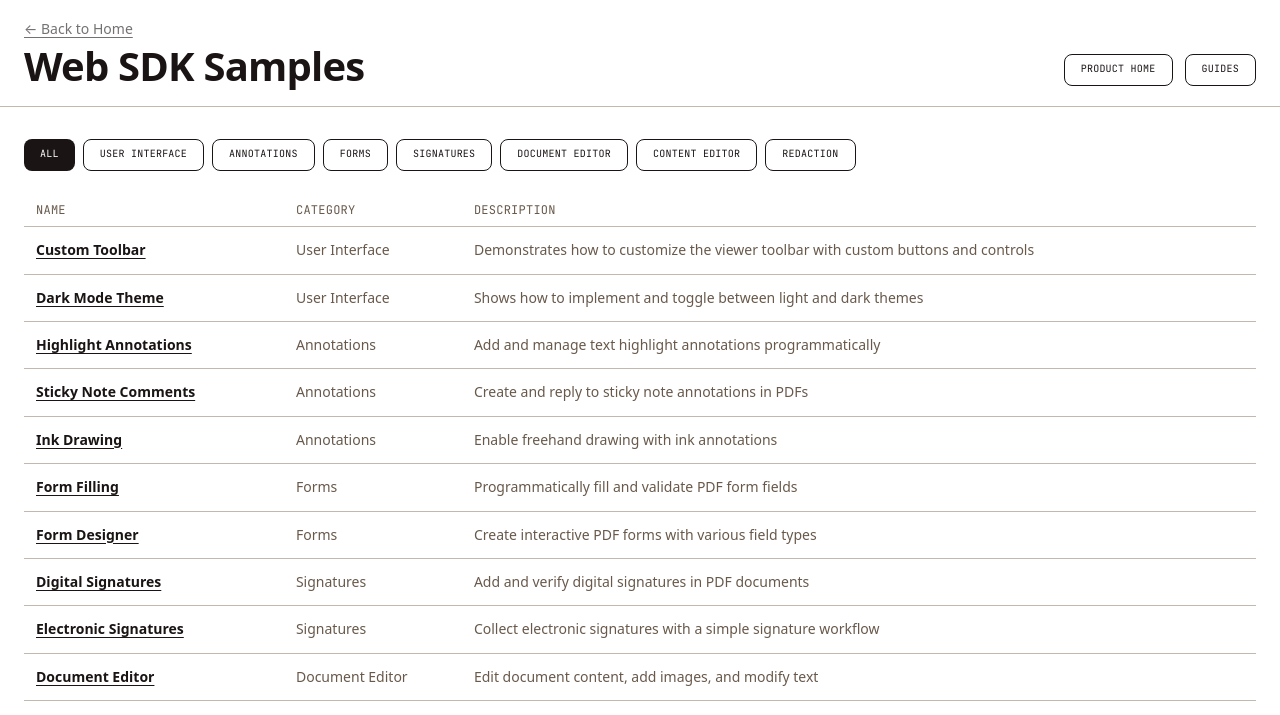
Test case: Web SDK Samples Page Filtering › should filter samples by Annotations category
Click the button "Annotations". click: (263, 155)
box: 212,139 -> 315,171
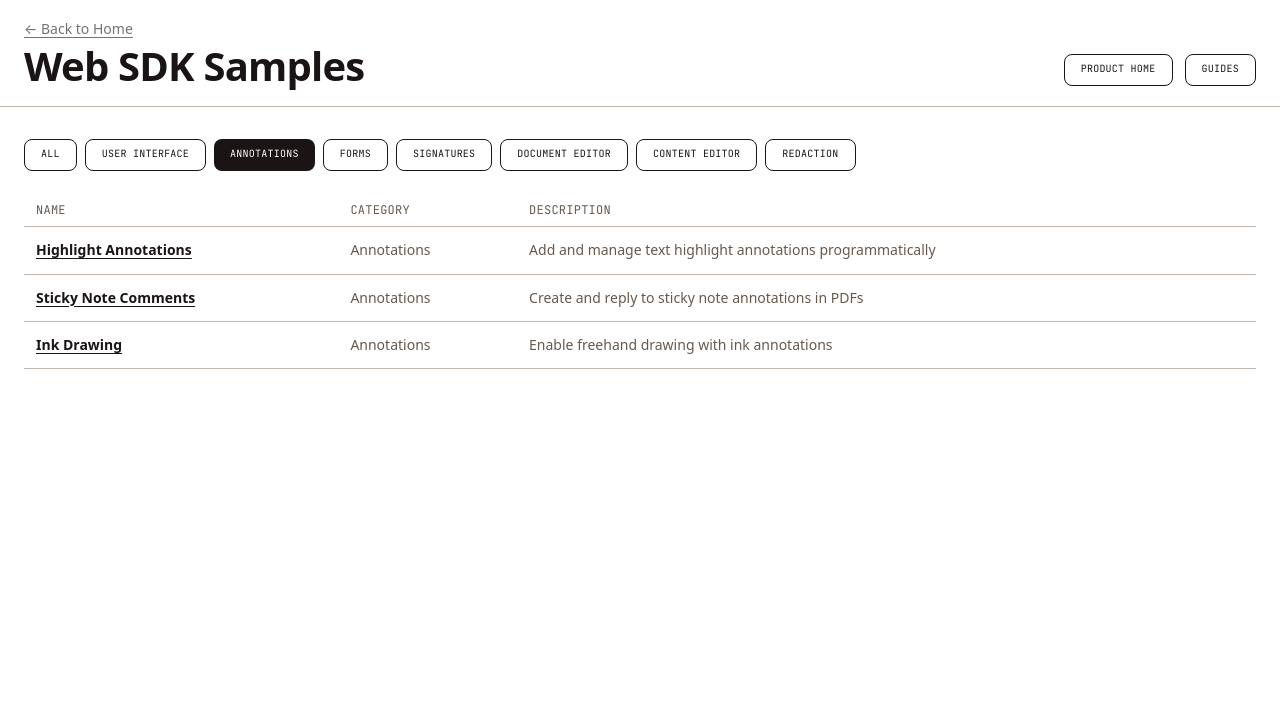
Check: the link "Highlight Annotations" is shown, box 36,240 -> 192,259
Check: the link "Custom Toolbar" is gone
Check: the link "Form Filling" is gone
